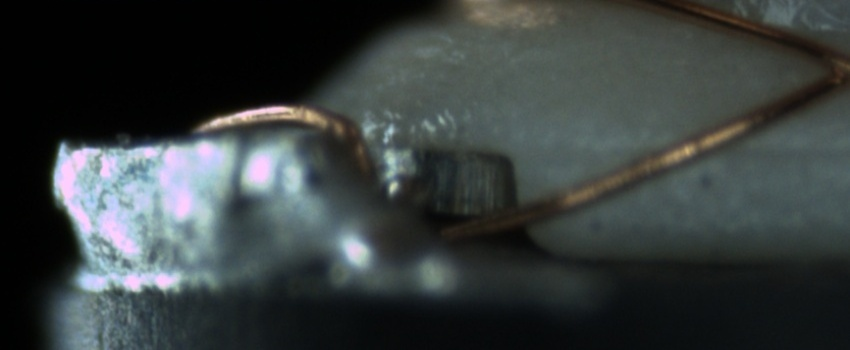CL: (799, 37, 850, 101)
DL: (549, 119, 850, 180)
TE: (192, 99, 378, 189)
